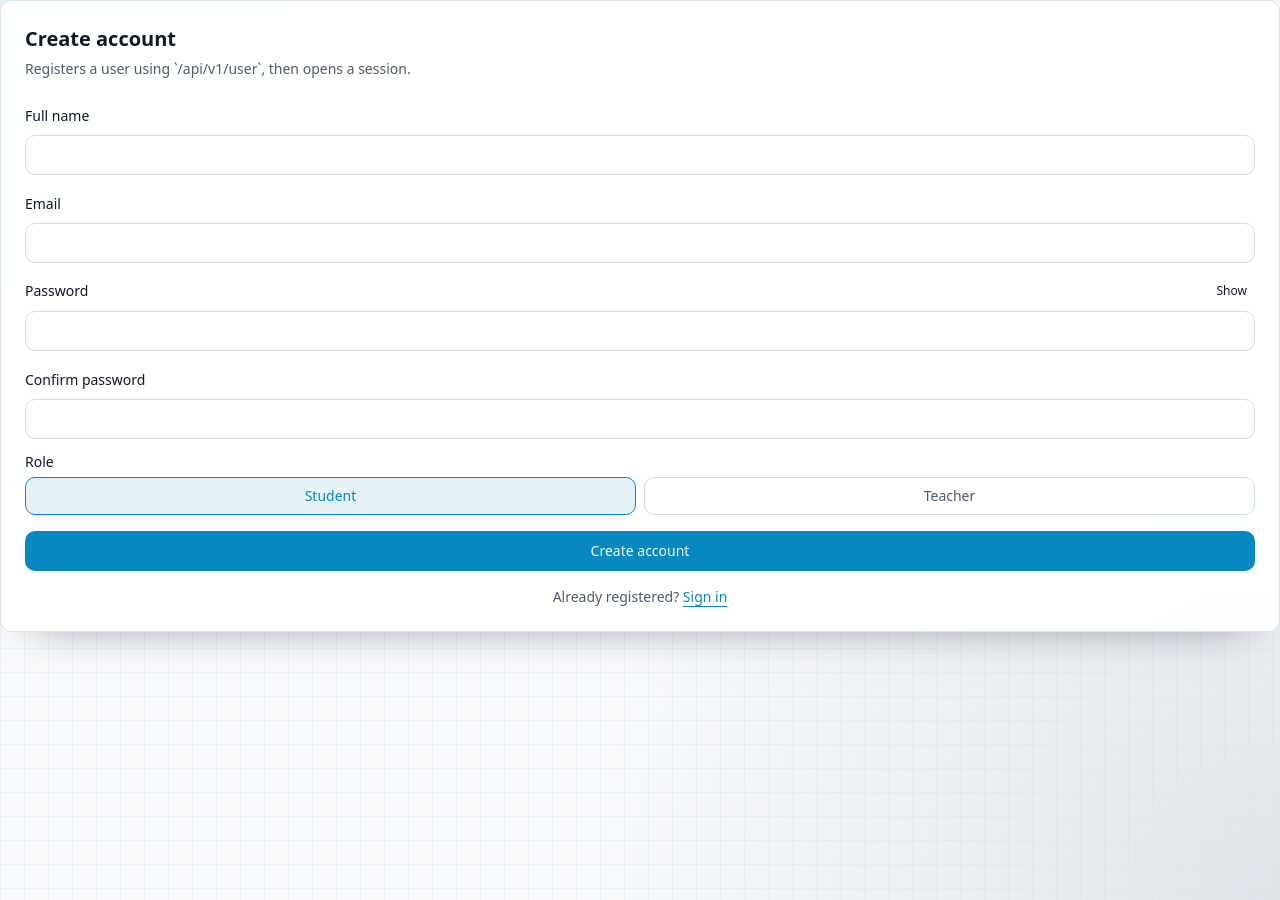
Test: RegisterForm › shows ApiError detail on registration failure
Type "Ada Lovelace" into the field labelled "Full name".
click(640, 155); type("Ada Lovelace")  # box left=25, top=135, right=1255, bottom=175
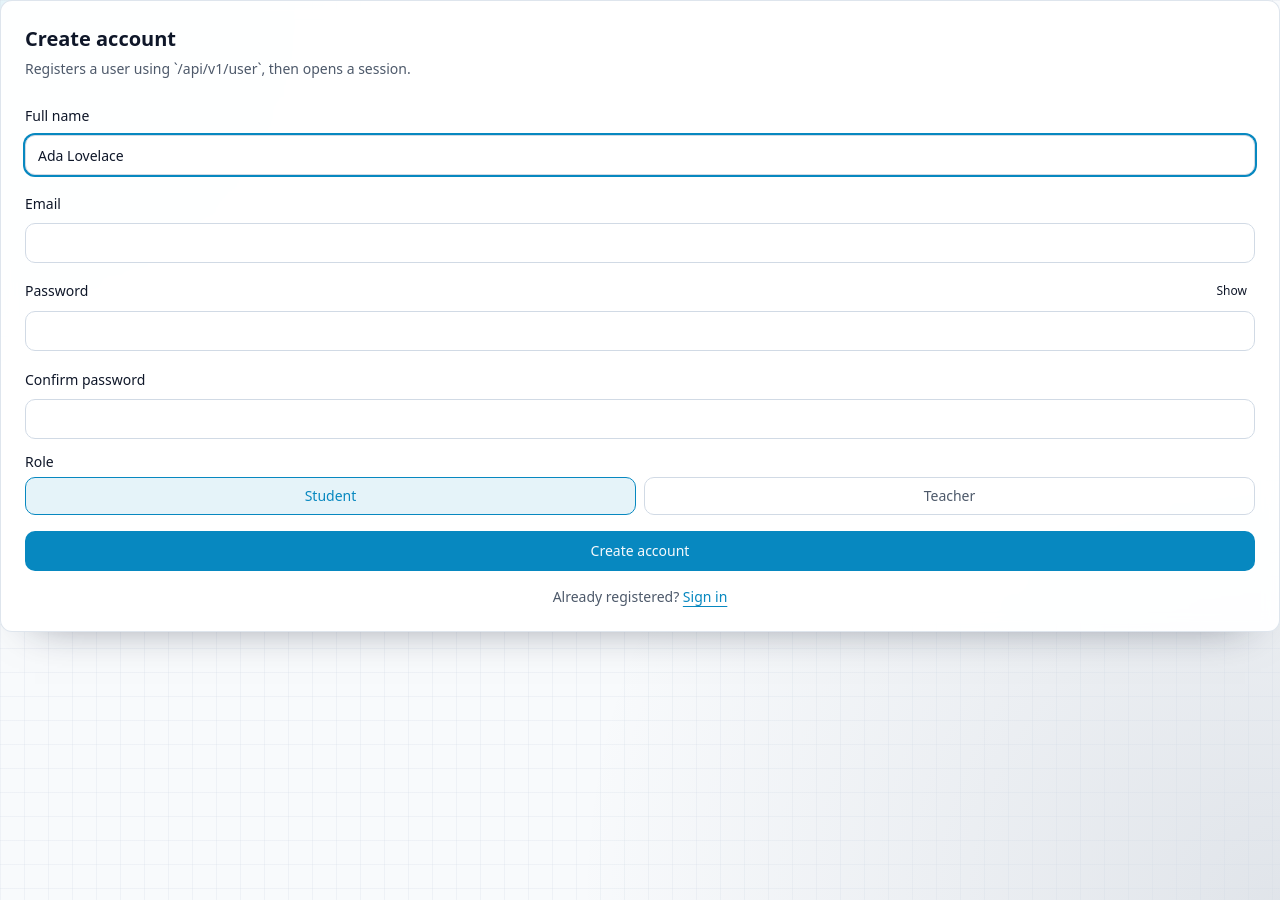
Type "ada@example.com" into the field labelled "Email".
click(640, 243); type("ada@example.com")  # box left=25, top=223, right=1255, bottom=263
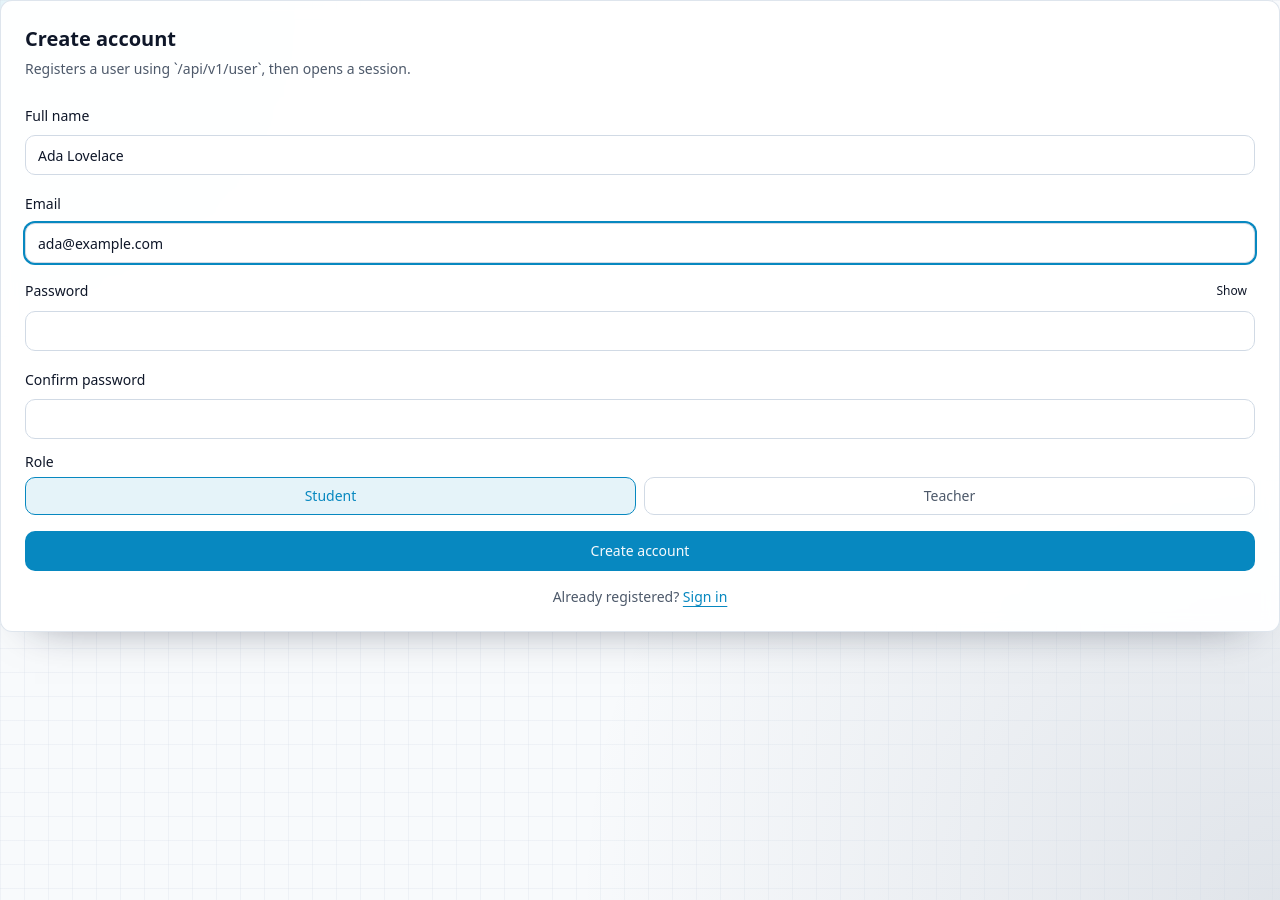
Type "password123" into the password field labelled "Password".
click(640, 331); type("password123")  # box left=25, top=311, right=1255, bottom=351
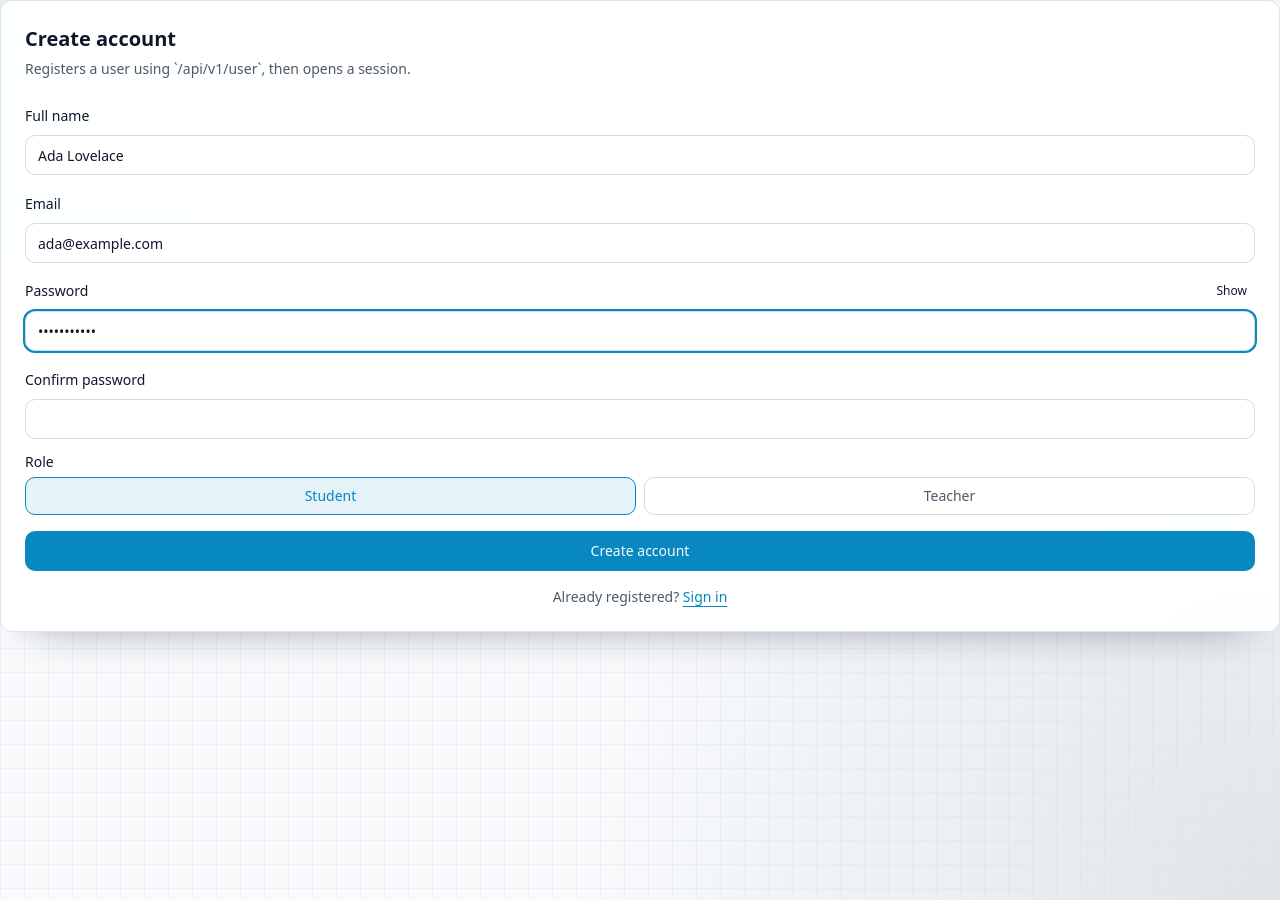
Type "password123" into the password field labelled "Confirm password".
click(640, 419); type("password123")  # box left=25, top=399, right=1255, bottom=439
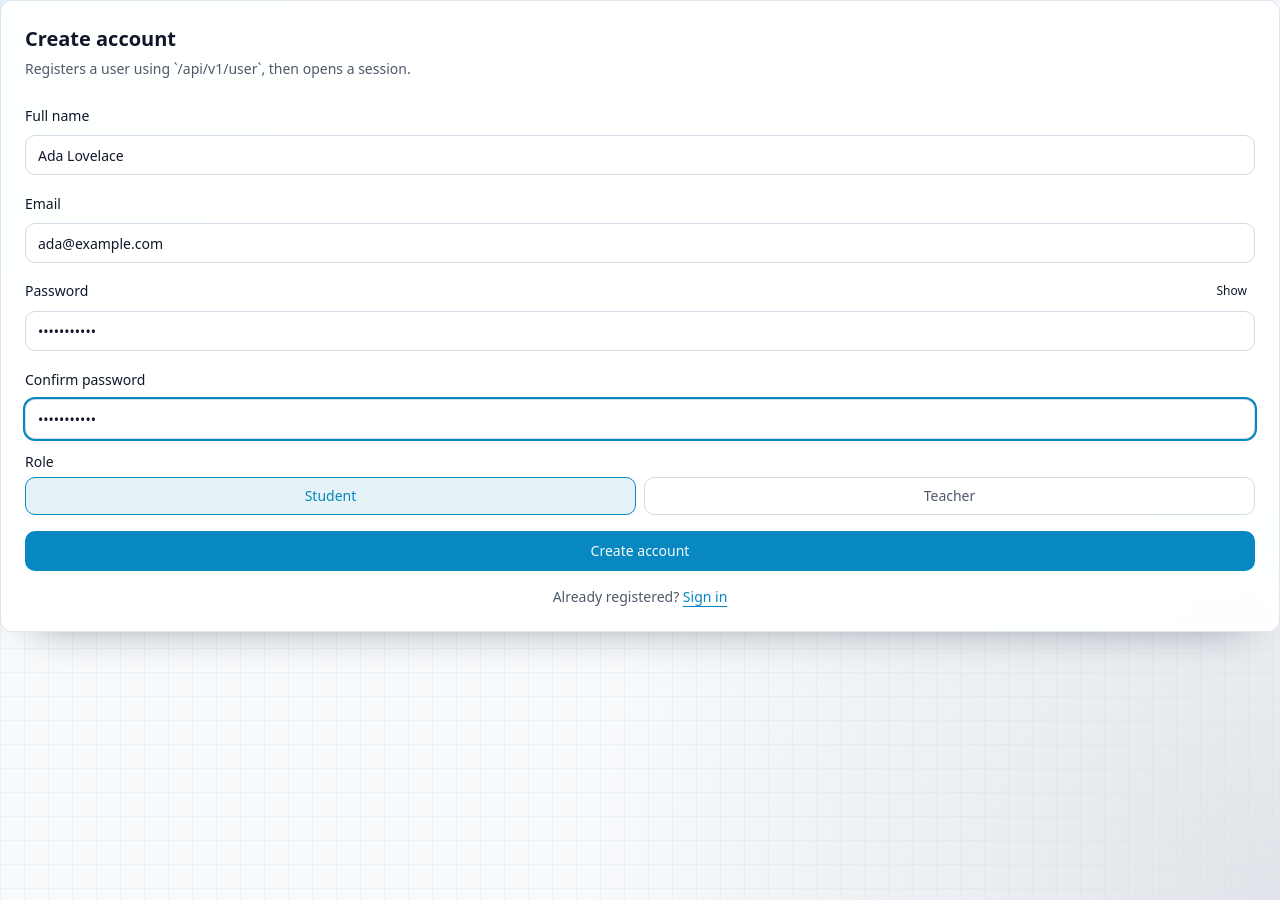
Click the button "Create account".
click(640, 551)  # box left=25, top=531, right=1255, bottom=571
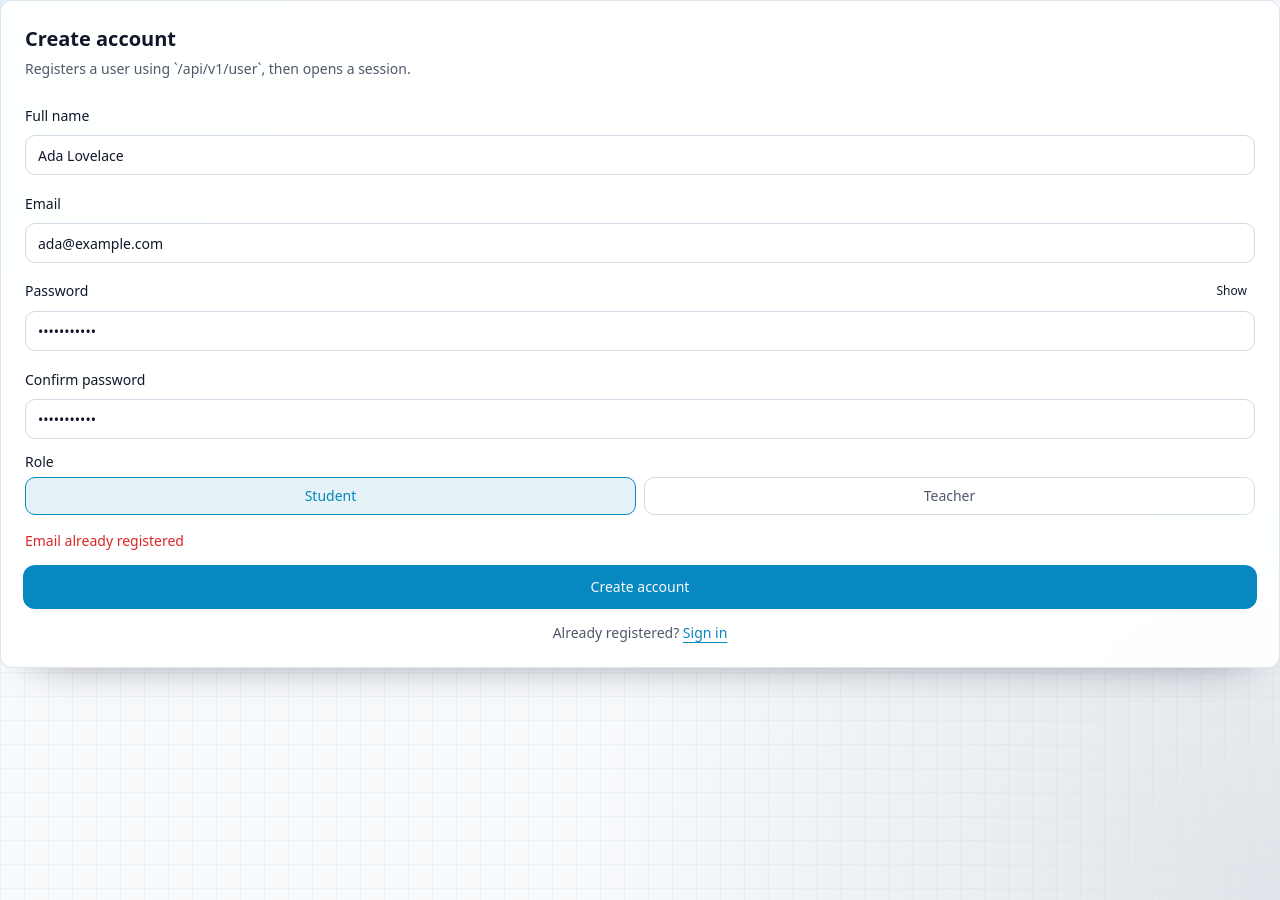
Check: the text "Email already registered" is shown, box left=25, top=531, right=184, bottom=550
